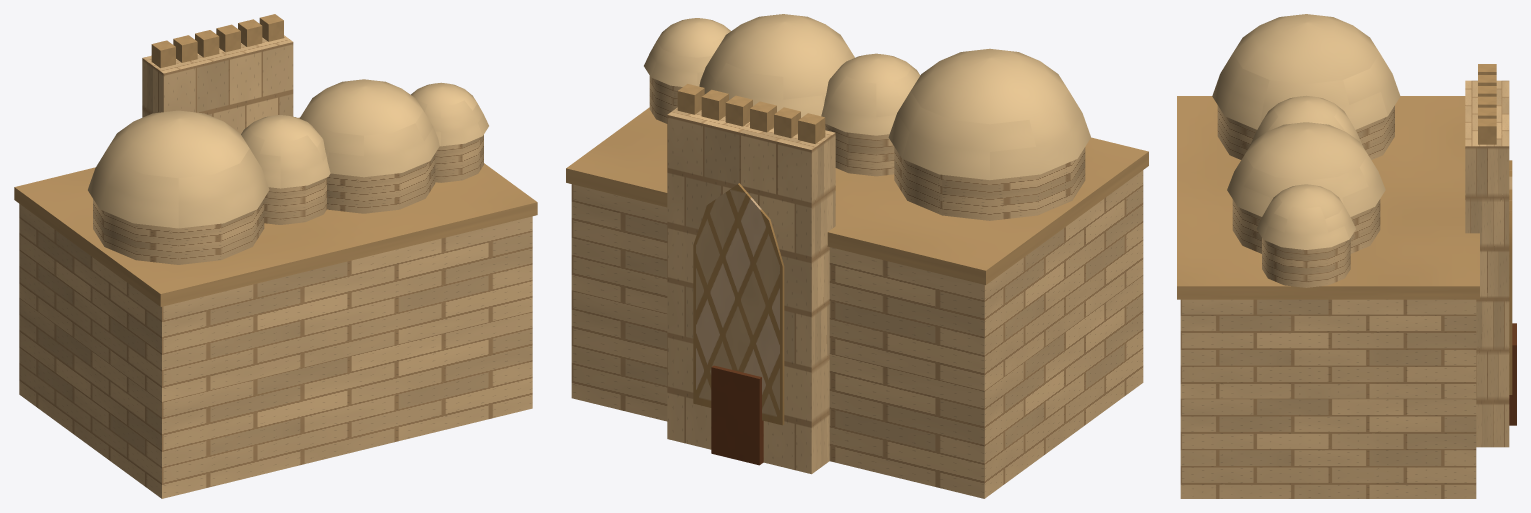
File: env_shirvanshah.glb
3 views of the same model, side by side, from view 1: azimuth 30°, elevation 25°; view 2: azimuth 150°, elevation 25°; view 3: azimuth 270°, elevation 25° (orthographic). The views are drawn at different scales.
Visible parts, largest first — view 1: env_shirvanshah; view 2: env_shirvanshah; view 3: env_shirvanshah.
Boxes of the visible parts, bbox=[...] form: env_shirvanshah: bbox=[14, 14, 537, 498]; env_shirvanshah: bbox=[566, 14, 1148, 498]; env_shirvanshah: bbox=[1177, 14, 1516, 498].
Bounding box in the file's own units: 12.45 × 9.8 × 9.2.
1 material, 1 textured.
